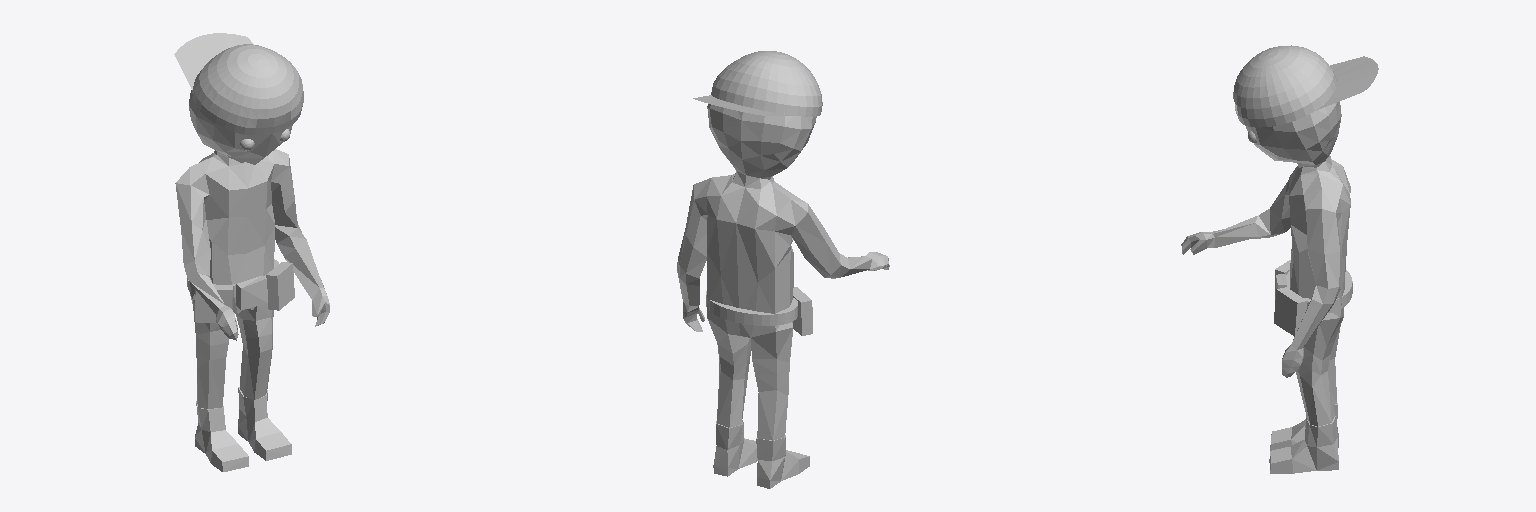
File: Main_Character_Pickup_Paint_7.obj
3 views of the same model, side by side, from view 1: azimuth 30°, elevation 25°; view 2: azimuth 150°, elevation 25°; view 3: azimuth 270°, elevation 25° (orthographic).
Visible parts, largest first — view 1: Main_Character_Test.003_Main_Character_Test.004; view 2: Main_Character_Test.003_Main_Character_Test.004; view 3: Main_Character_Test.003_Main_Character_Test.004.
Part boxes in pixels (x1,y1,x2,y2): Main_Character_Test.003_Main_Character_Test.004: (174,33,329,471); Main_Character_Test.003_Main_Character_Test.004: (677,51,889,488); Main_Character_Test.003_Main_Character_Test.004: (1181,45,1378,473).
Bounding box in the file's own units: 1.57 × 3.93 × 1.72.